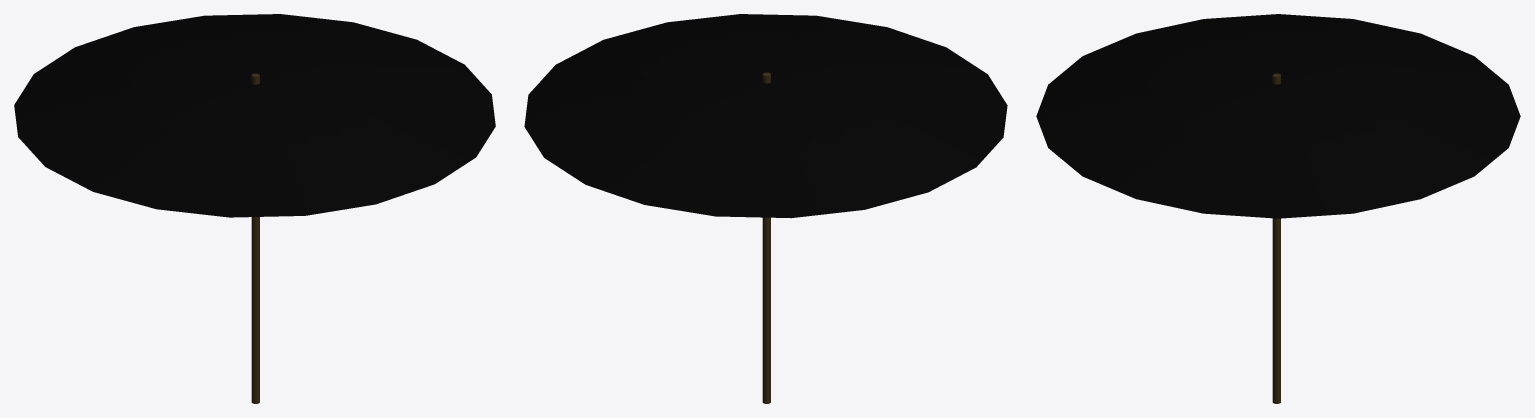
The model's file is Umbrella_3DModel.fbx.
3 views of the same model, side by side, from view 1: azimuth 30°, elevation 25°; view 2: azimuth 150°, elevation 25°; view 3: azimuth 270°, elevation 25° (orthographic).
Visible parts, largest first — view 1: pUmbrellaTop, pStickHandle; view 2: pUmbrellaTop, pStickHandle; view 3: pUmbrellaTop, pStickHandle.
Boxes of the visible parts, x1=… form: pUmbrellaTop: x1=14, y1=14, x2=495, y2=217; pStickHandle: x1=251, y1=73, x2=259, y2=403; pUmbrellaTop: x1=524, y1=14, x2=1007, y2=218; pStickHandle: x1=762, y1=72, x2=770, y2=403; pUmbrellaTop: x1=1036, y1=14, x2=1520, y2=218; pStickHandle: x1=1272, y1=73, x2=1280, y2=403.
Size of the model in its own units: 170 by 127 by 170.
